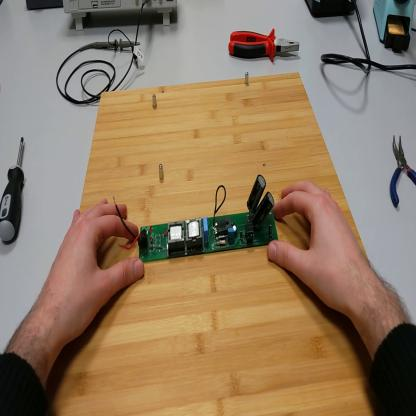hand: (44, 199, 144, 342), (269, 180, 362, 316)
high voltage board: (114, 175, 280, 262)
oscilloscope: (63, 2, 180, 35)
oscilloscope probe tip: (89, 40, 142, 57)
pliers: (230, 30, 301, 64), (391, 136, 416, 209)
screwdriver-: (1, 134, 29, 243)
socket: (27, 3, 62, 16)
welder base: (373, 2, 415, 54)
welder station: (305, 1, 358, 22)
working area: (47, 72, 386, 415)
